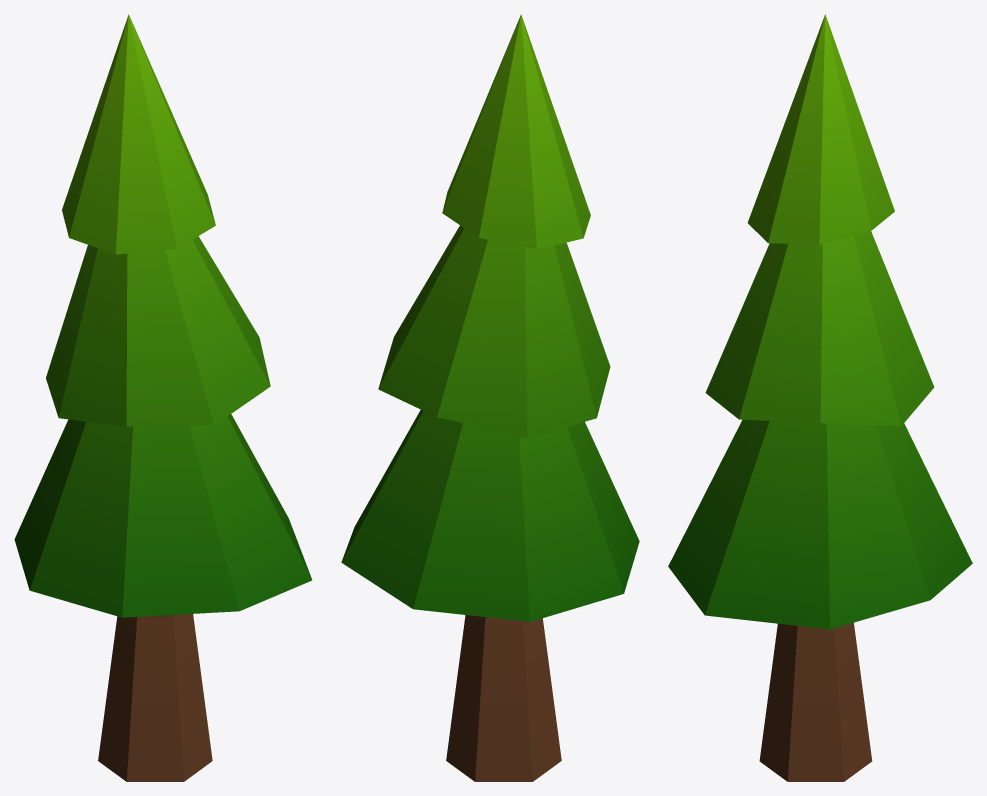
File: tree_pine_2.fbx
3 renders of one model, left to right at view 1: azimuth 30°, elevation 25°; view 2: azimuth 150°, elevation 25°; view 3: azimuth 270°, elevation 25°, orthographic. The views are drawn at different scales.
Visible parts, largest first — view 1: tree_pine_2; view 2: tree_pine_2; view 3: tree_pine_2.
Part boxes in pixels (x1,y1,x2,y2): tree_pine_2: [14, 14, 312, 781]; tree_pine_2: [341, 14, 639, 781]; tree_pine_2: [668, 14, 972, 781].
Bounding box in the file's own units: 1.84 × 5 × 1.88.
